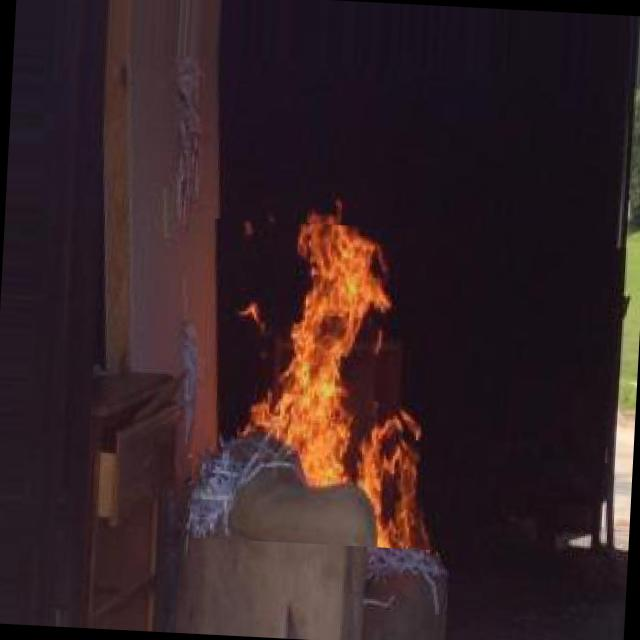fire: (188, 218, 490, 552)
